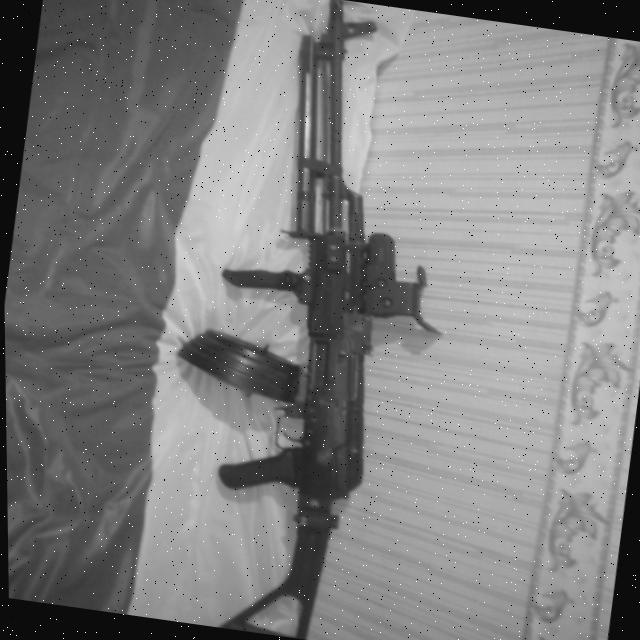firearm: (133, 0, 489, 640)
